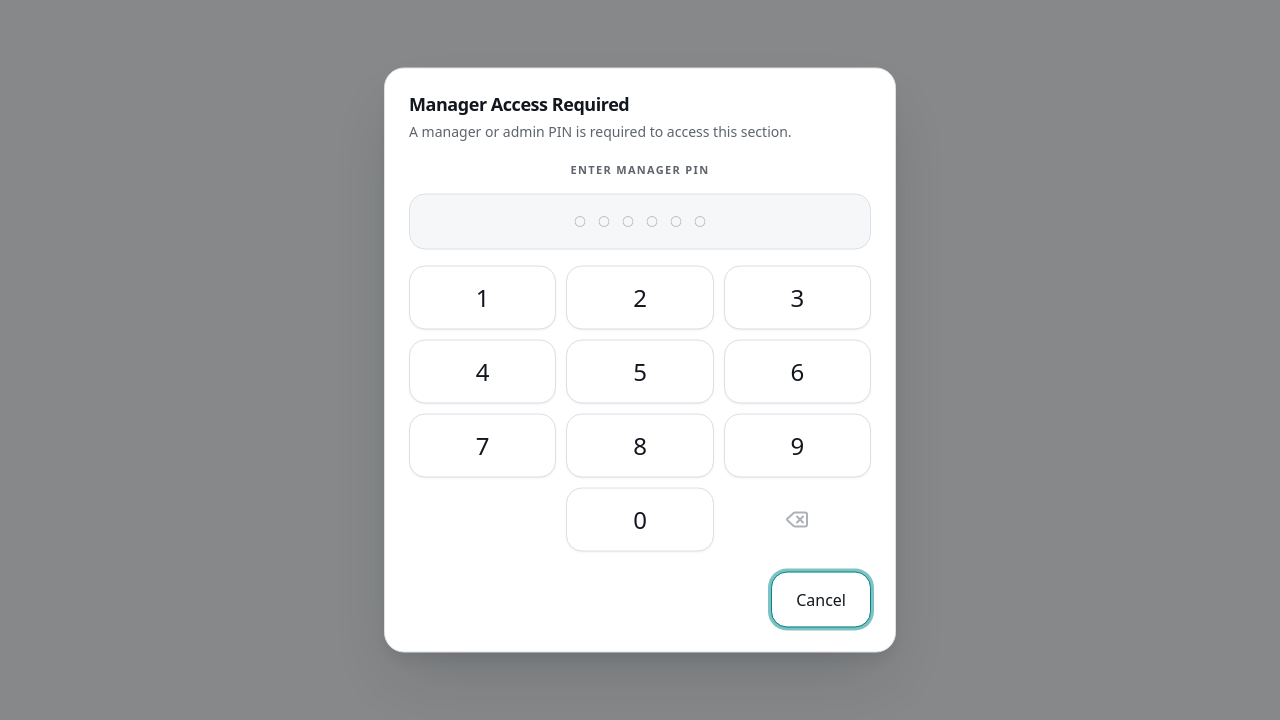
ManagerPinDialog › UNAVAILABLE shows the connection-required message
Step 1. Click the button named "Key 0" → (640, 520), box x1=566 y1=488 x2=714 y2=552
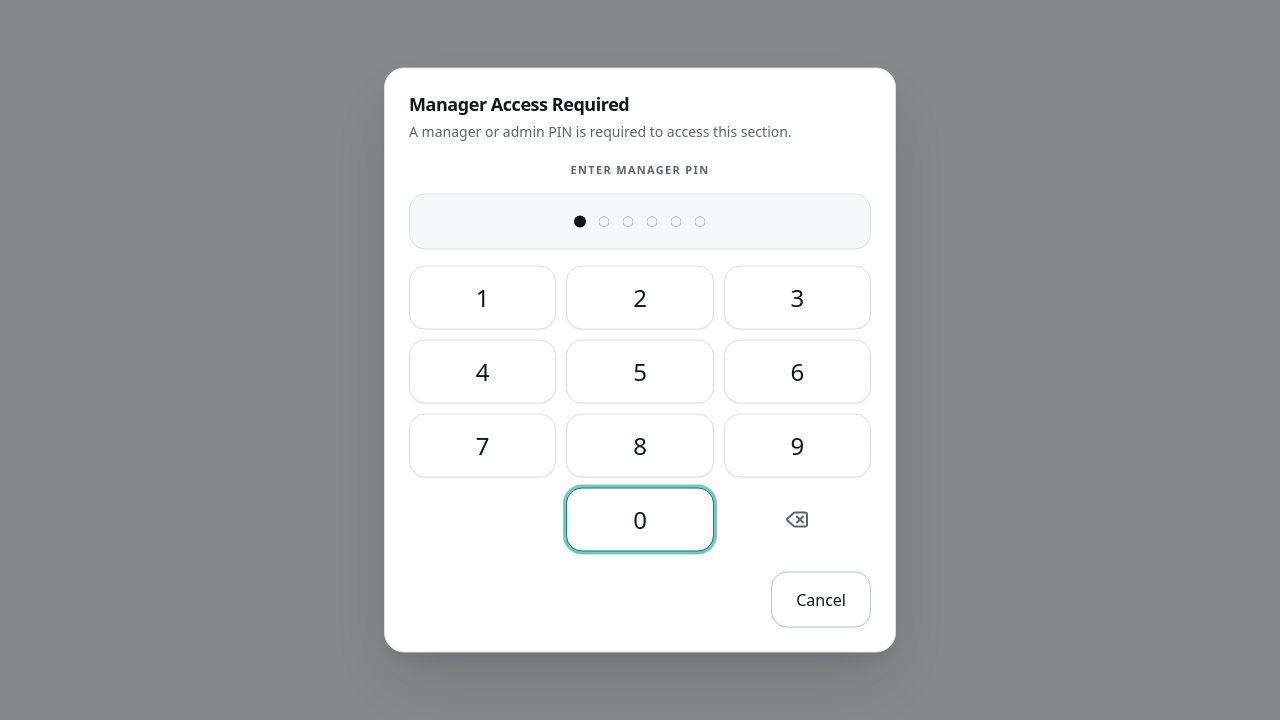
Step 2. Click the button named "Key 0" → (640, 520), box x1=566 y1=488 x2=714 y2=552
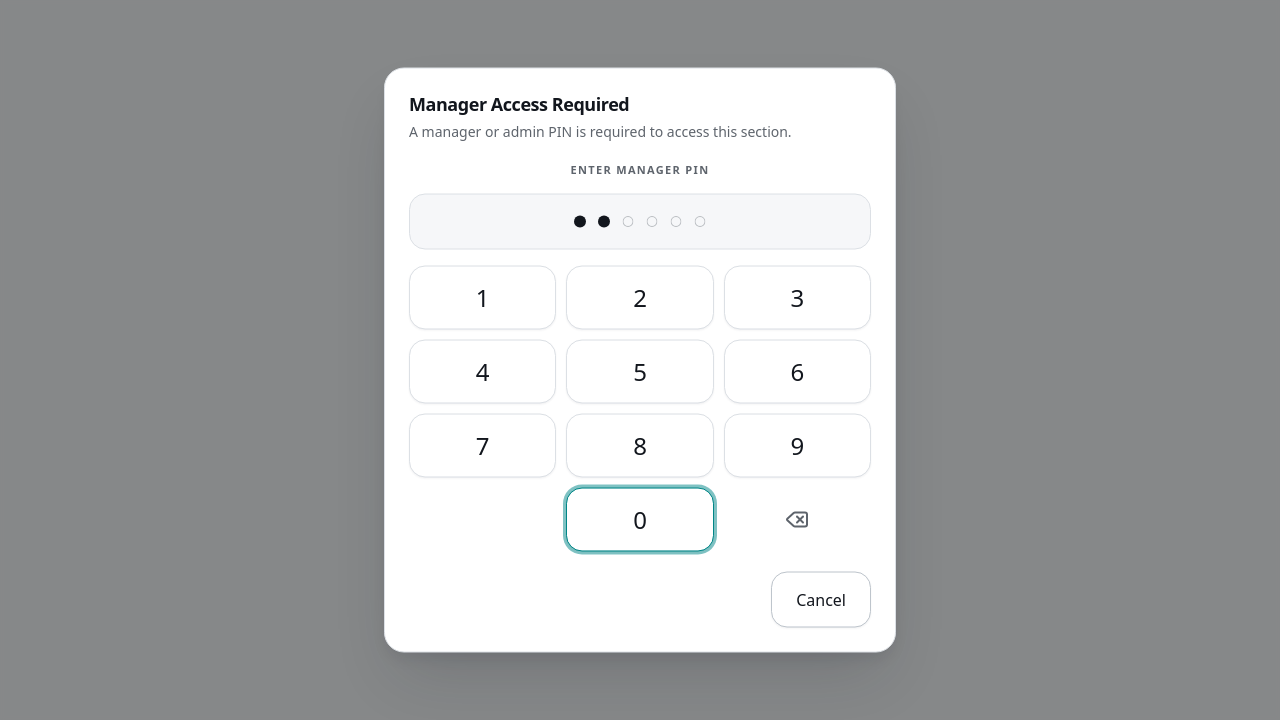
Step 3. Click the button named "Key 0" → (640, 520), box x1=566 y1=488 x2=714 y2=552
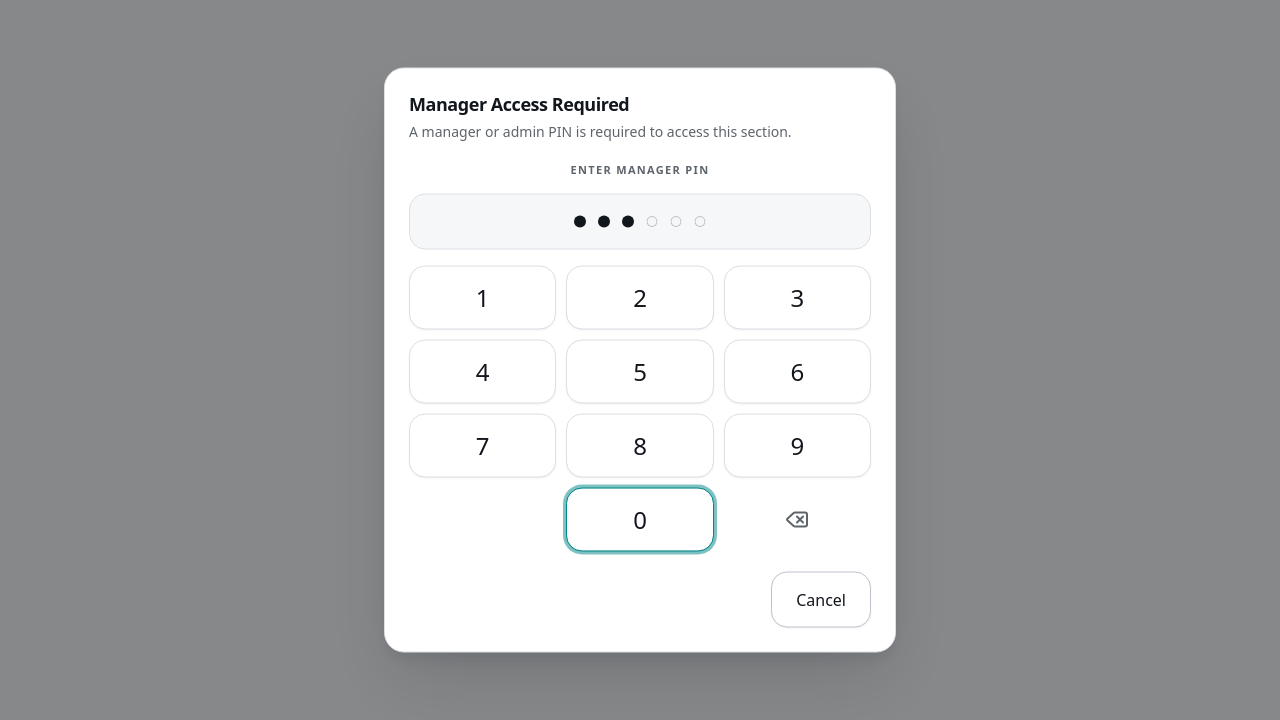
Step 4. Click the button named "Key 0" → (640, 520), box x1=566 y1=488 x2=714 y2=552
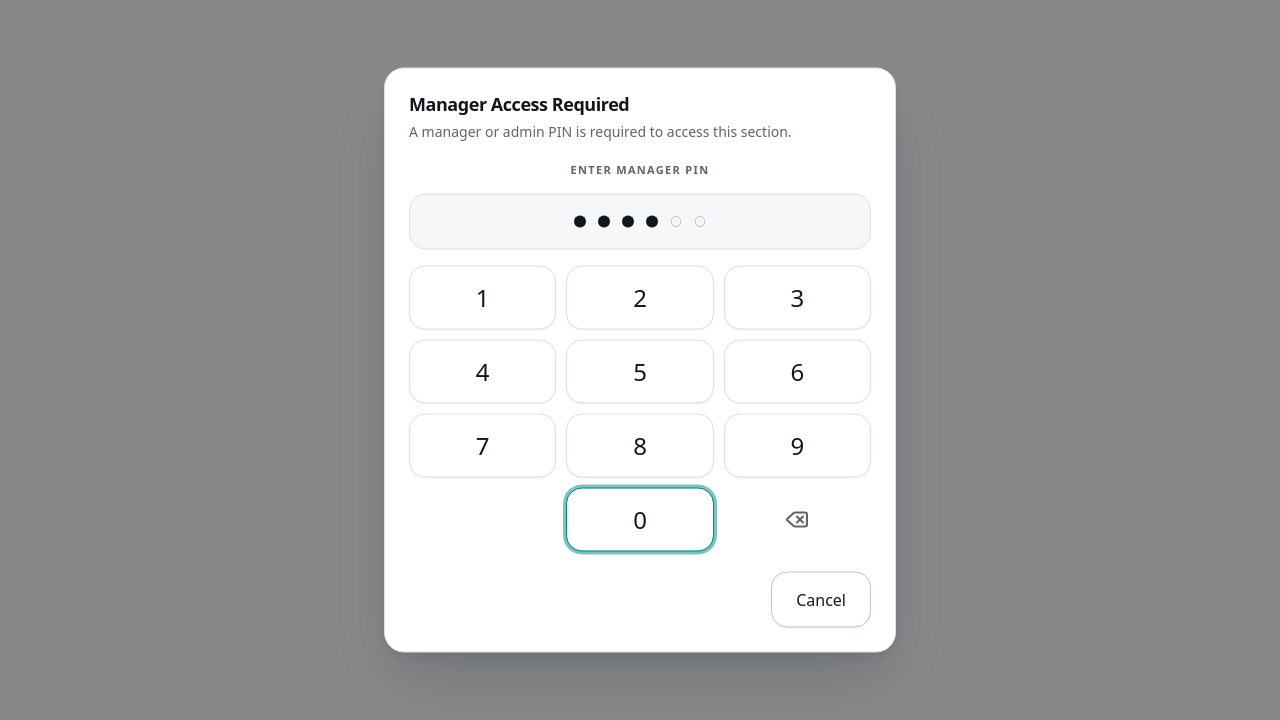
Step 5. Click the button named "Key 0" → (640, 520), box x1=566 y1=488 x2=714 y2=552
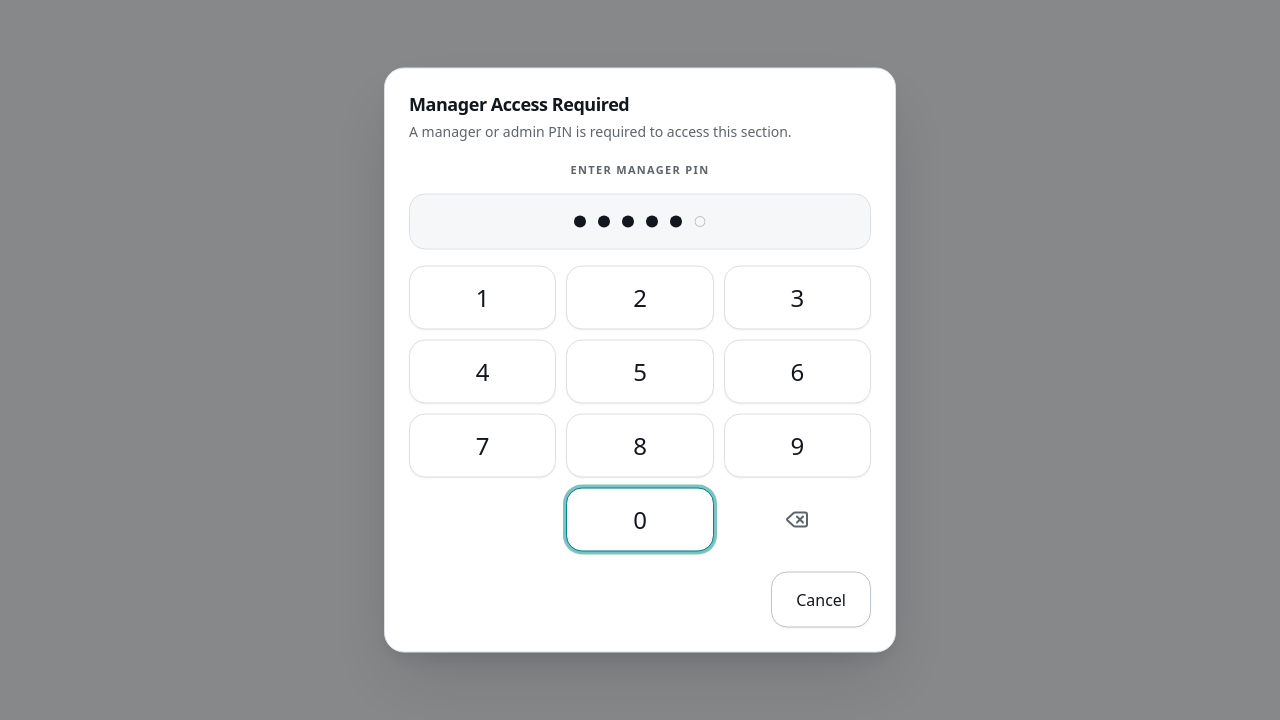
Step 6. Click the button named "Key 0" → (640, 520), box x1=566 y1=488 x2=714 y2=552
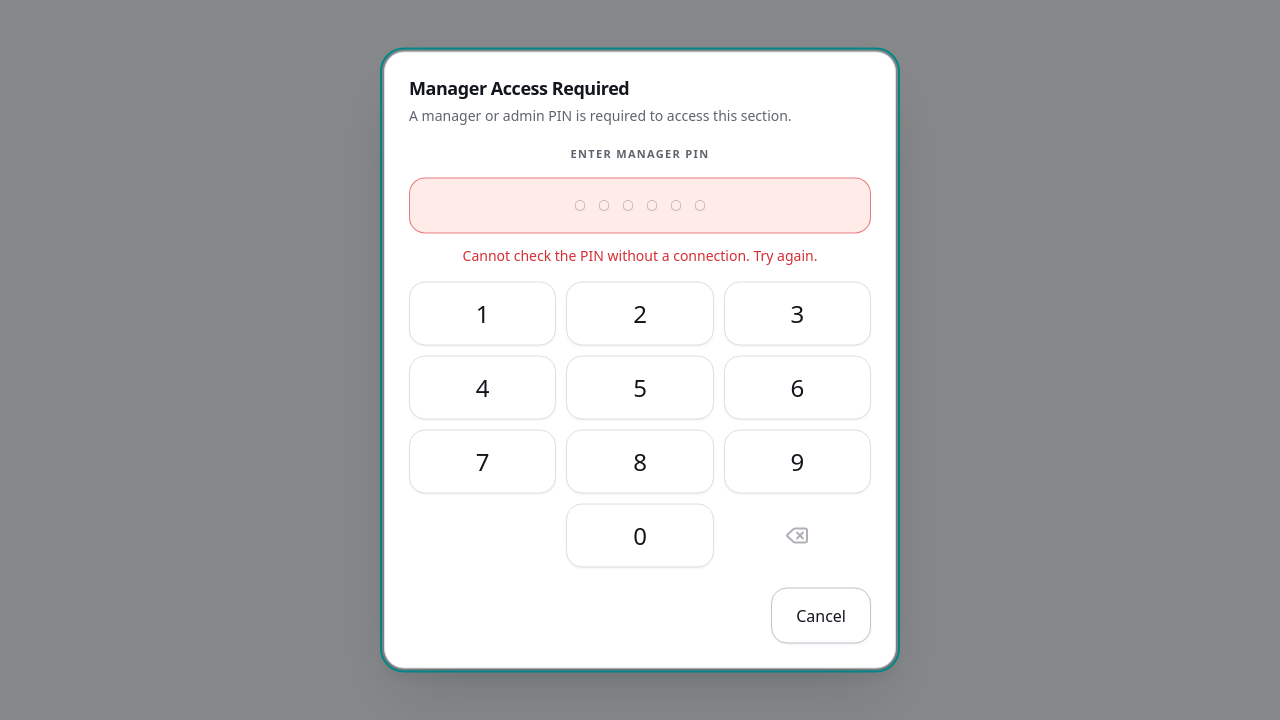
Now the text "Cannot check the PIN without a connection. Try again." is shown, box x1=462 y1=246 x2=817 y2=264
